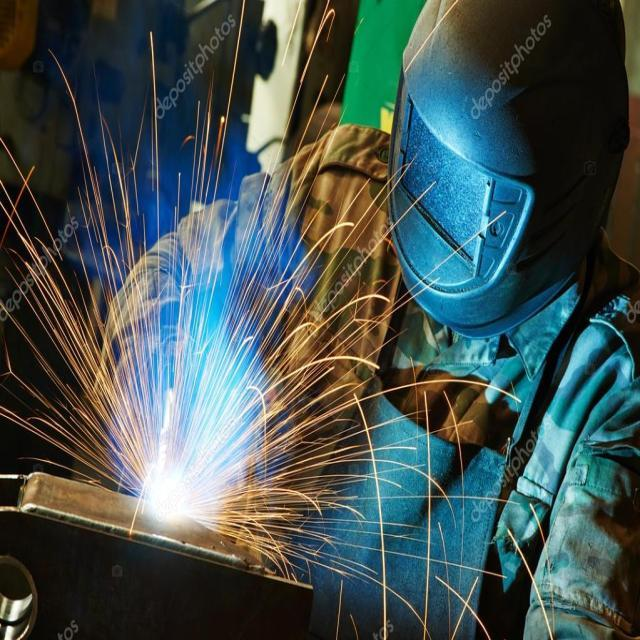with_helmet: (392, 0, 627, 336)
